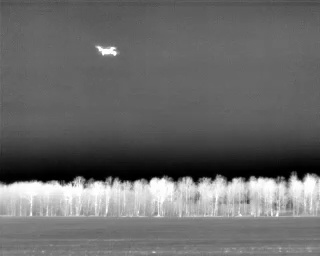DRONE: (92, 41, 123, 61)
